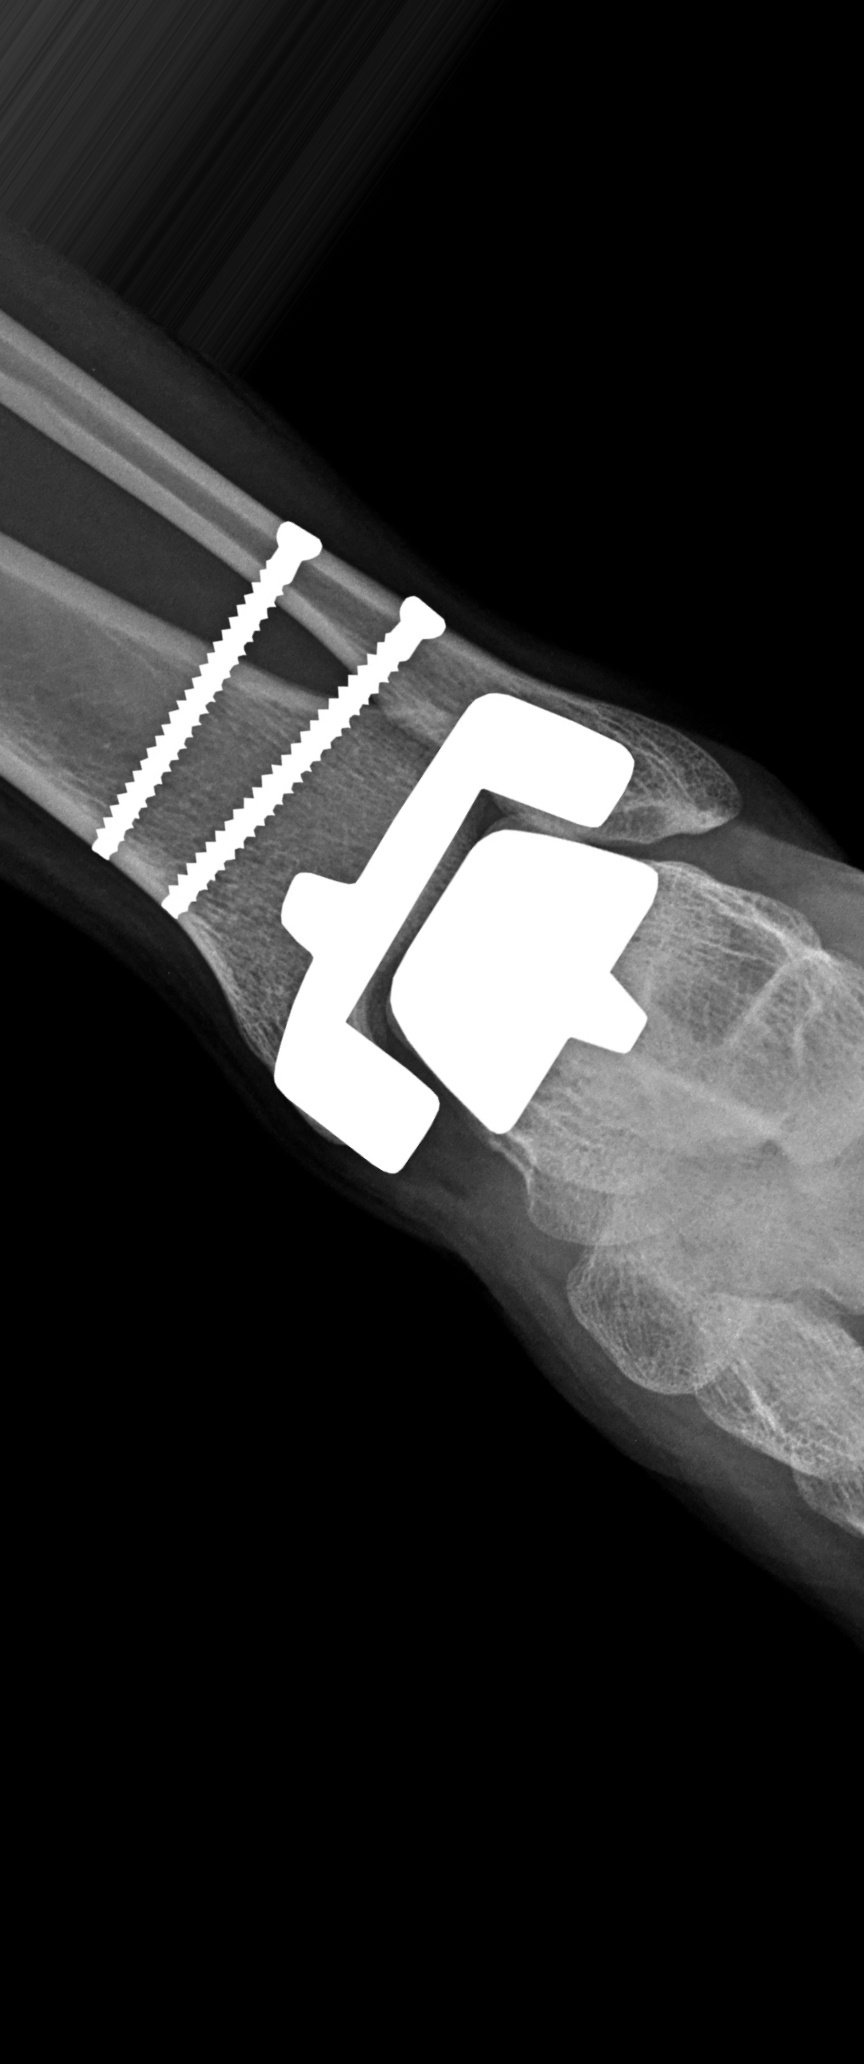Ankle - Agility - DePuy: (72, 513, 677, 1198)
